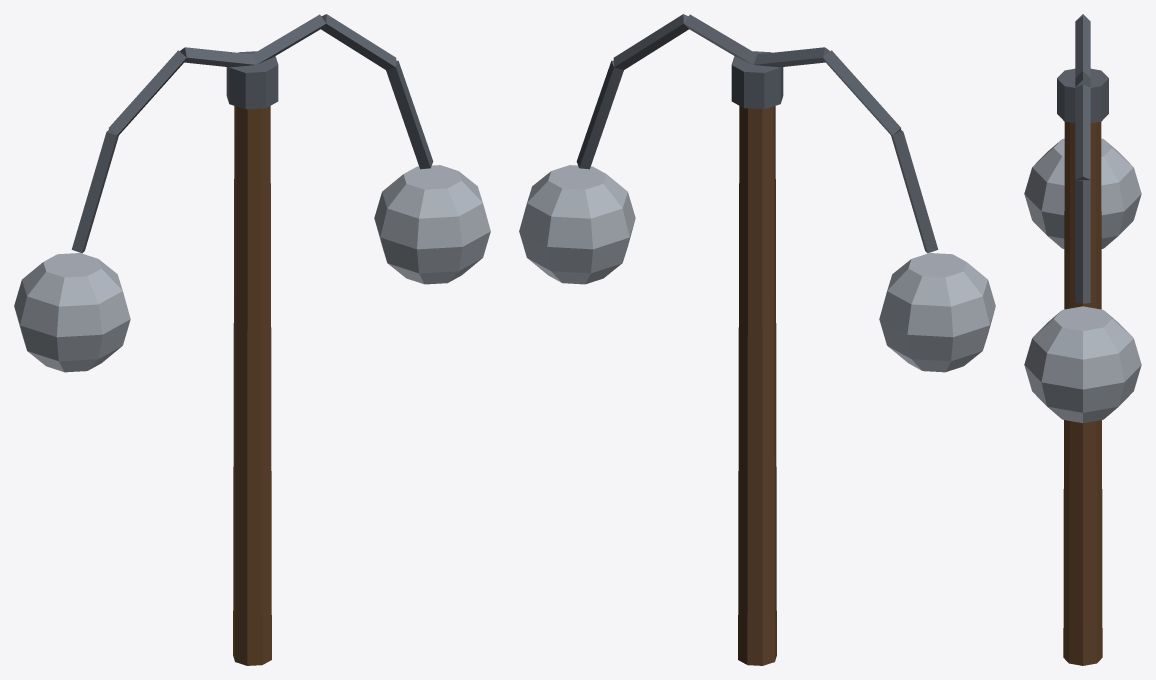
The model's file is g-flail-double.glb.
3 renders of one model, left to right at view 1: azimuth 30°, elevation 25°; view 2: azimuth 150°, elevation 25°; view 3: azimuth 270°, elevation 25°, orthographic. The views are drawn at different scales.
Visible parts, largest first — view 1: g-flail-double; view 2: g-flail-double; view 3: g-flail-double.
Boxes of the visible parts, x1=… form: g-flail-double: x1=14, y1=14, x2=490, y2=665; g-flail-double: x1=519, y1=14, x2=995, y2=665; g-flail-double: x1=1024, y1=14, x2=1141, y2=665.
Size of the model in its own units: 0.4 by 0.5157 by 0.09.
